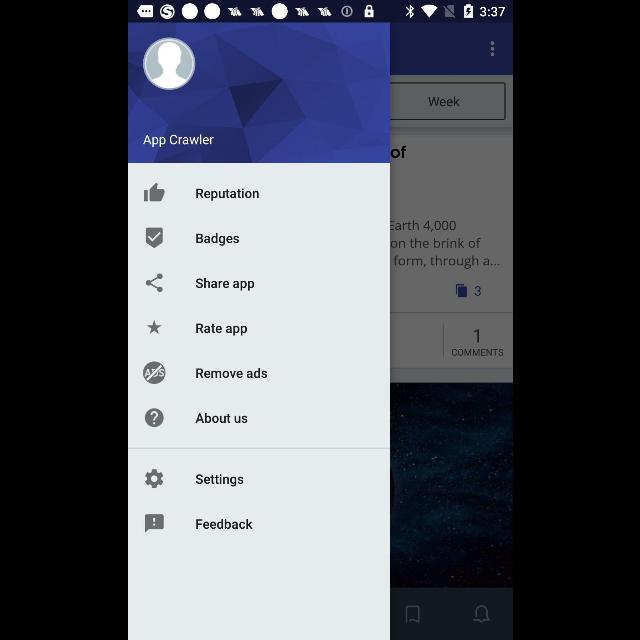icon: (142, 38, 195, 90), (144, 514, 164, 534), (144, 408, 164, 428), (145, 469, 163, 488), (146, 228, 162, 248), (146, 274, 162, 292), (146, 320, 162, 334)
image: (142, 362, 166, 384), (144, 182, 164, 202)
panel: (128, 24, 388, 640)
text: (142, 134, 214, 148), (196, 188, 258, 202), (194, 277, 253, 291), (195, 368, 267, 378), (195, 518, 252, 530), (195, 324, 247, 336), (195, 474, 243, 486), (195, 412, 247, 423), (195, 234, 239, 246)
uppertaskbar: (128, 1, 512, 23)
